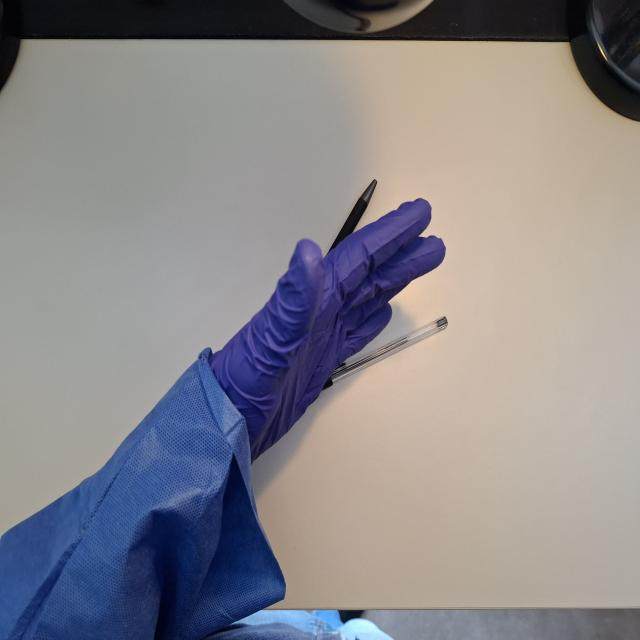glove_on: (197, 195, 448, 475)
